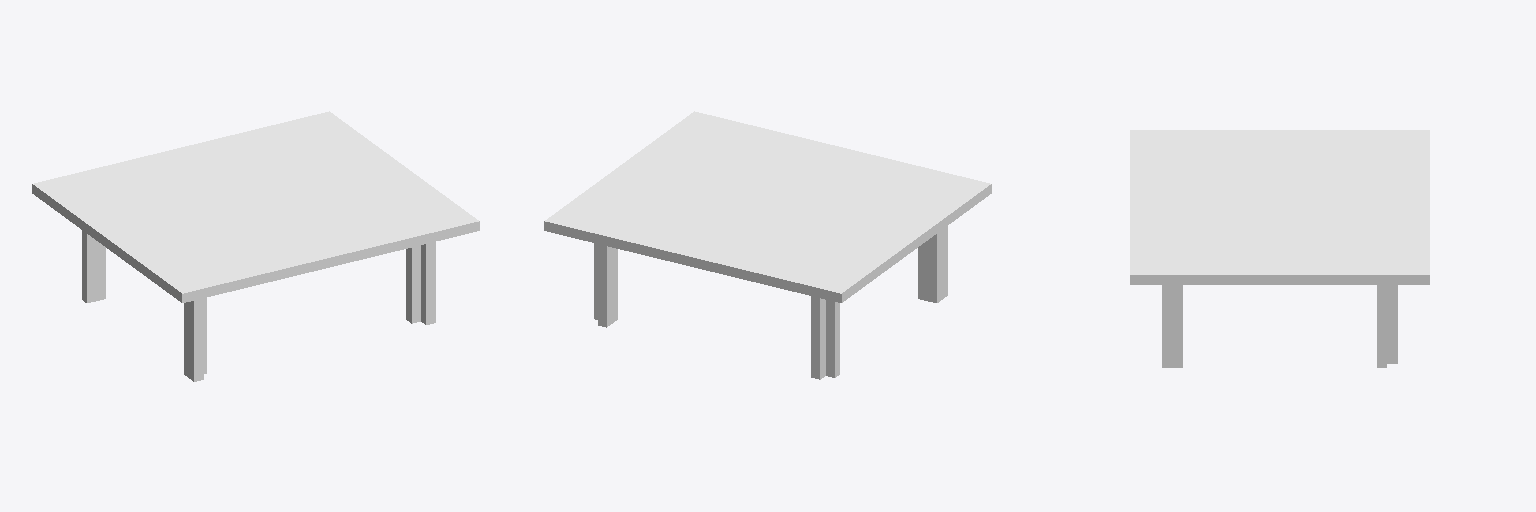
File: PlatTable.obj
3 renders of one model, left to right at view 1: azimuth 30°, elevation 25°; view 2: azimuth 150°, elevation 25°; view 3: azimuth 270°, elevation 25°, orthographic.
Visible parts, largest first — view 1: object 1; view 2: object 1; view 3: object 1.
Boxes of the visible parts, <box> form: object 1: <box>32,111,479,381</box>; object 1: <box>544,111,991,379</box>; object 1: <box>1130,130,1429,367</box>.
Size of the model in its own units: 3.2 by 1.1 by 2.8.